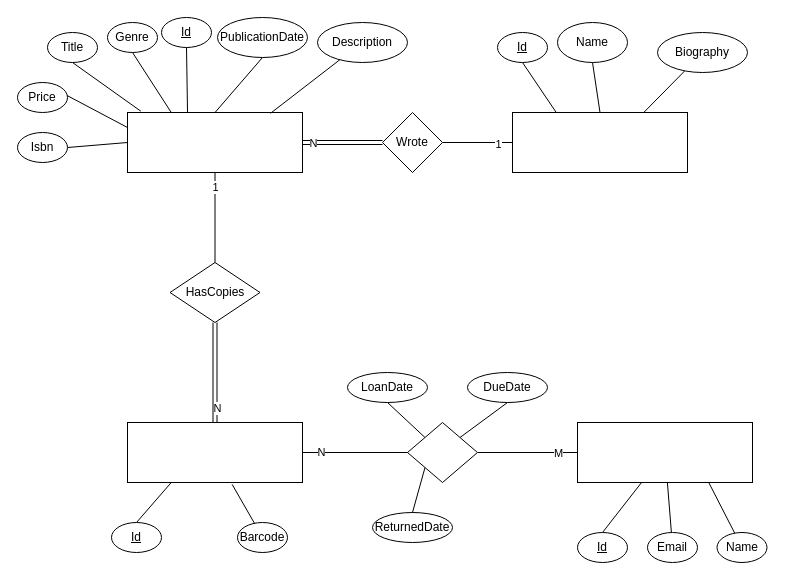
This 785x580 diagram has some shape labels left out. The centre of each missing label's shape, as x and y in pixels:
"Author" goes at point 600,142.
"Book" goes at point 214,142.
"BookCopy" goes at point 214,452.
"Loans" goes at point 442,452.
"User" goes at point 664,452.
